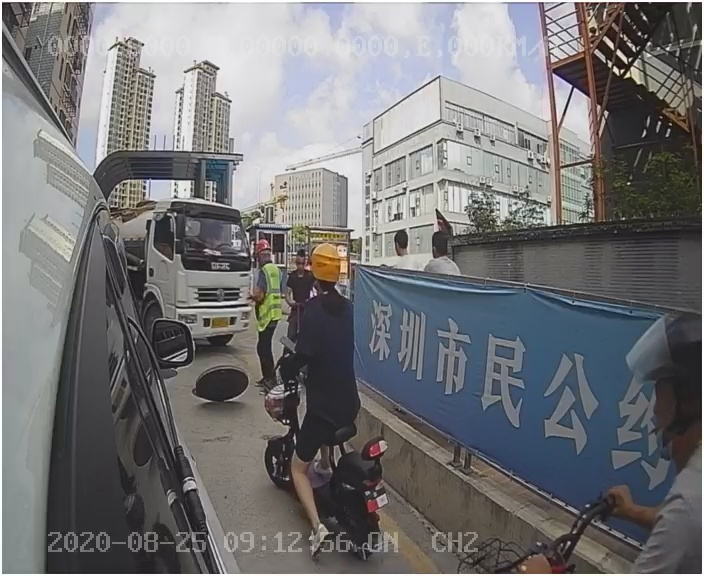person: (242, 240, 287, 388)
